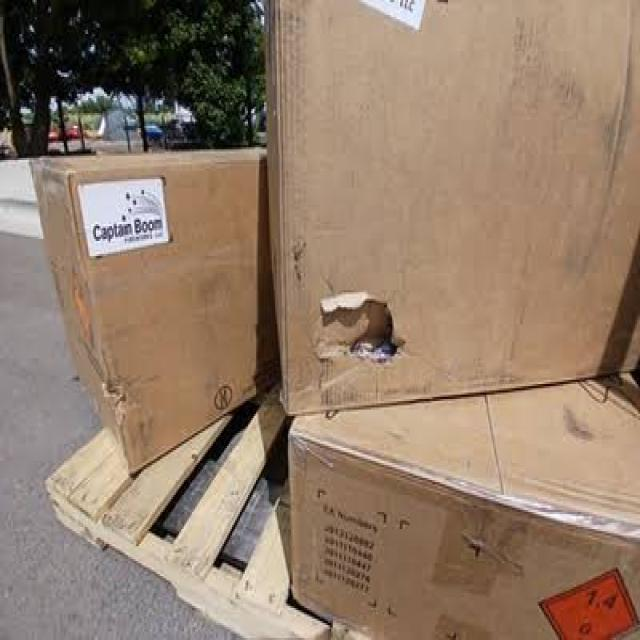package_damage: (299, 280, 431, 398), (98, 373, 165, 444)
